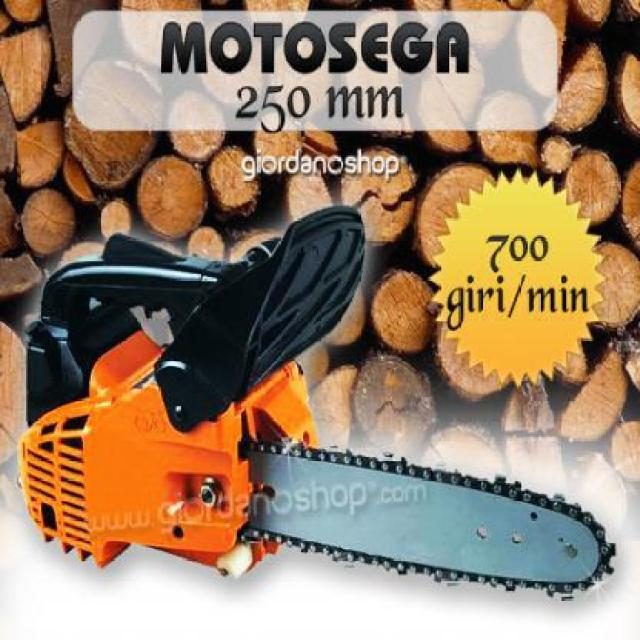Chainsaw: (23, 205, 619, 597)
